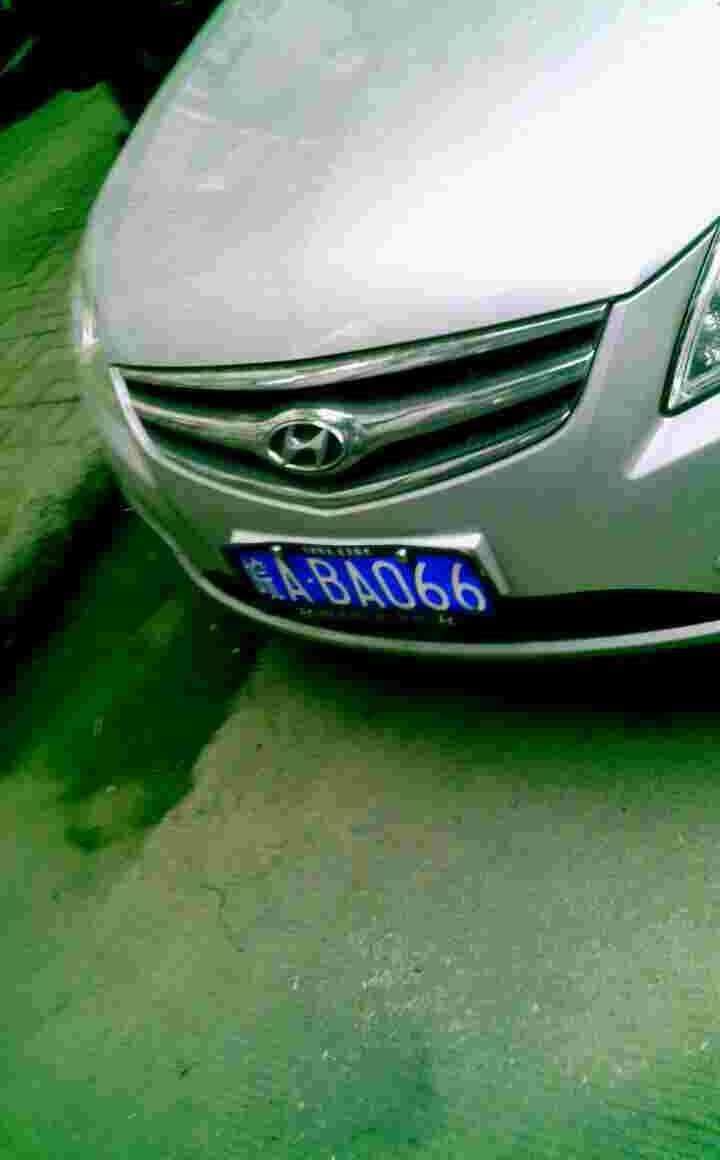car: (231, 534, 493, 621)
